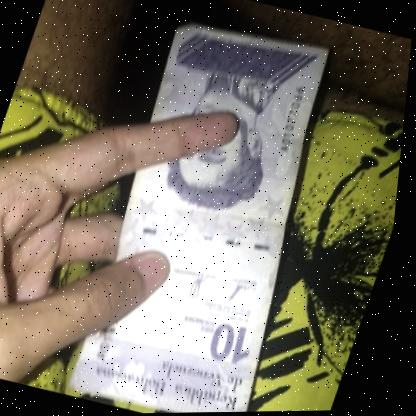ten-front-vef: (59, 14, 376, 415)
